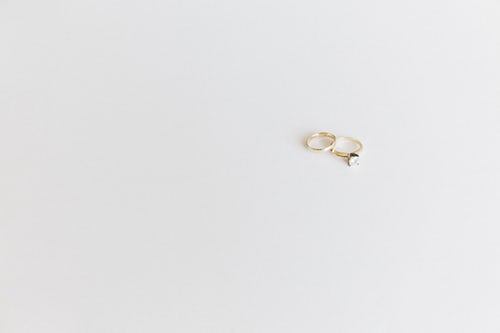ring: (301, 122, 371, 171)
